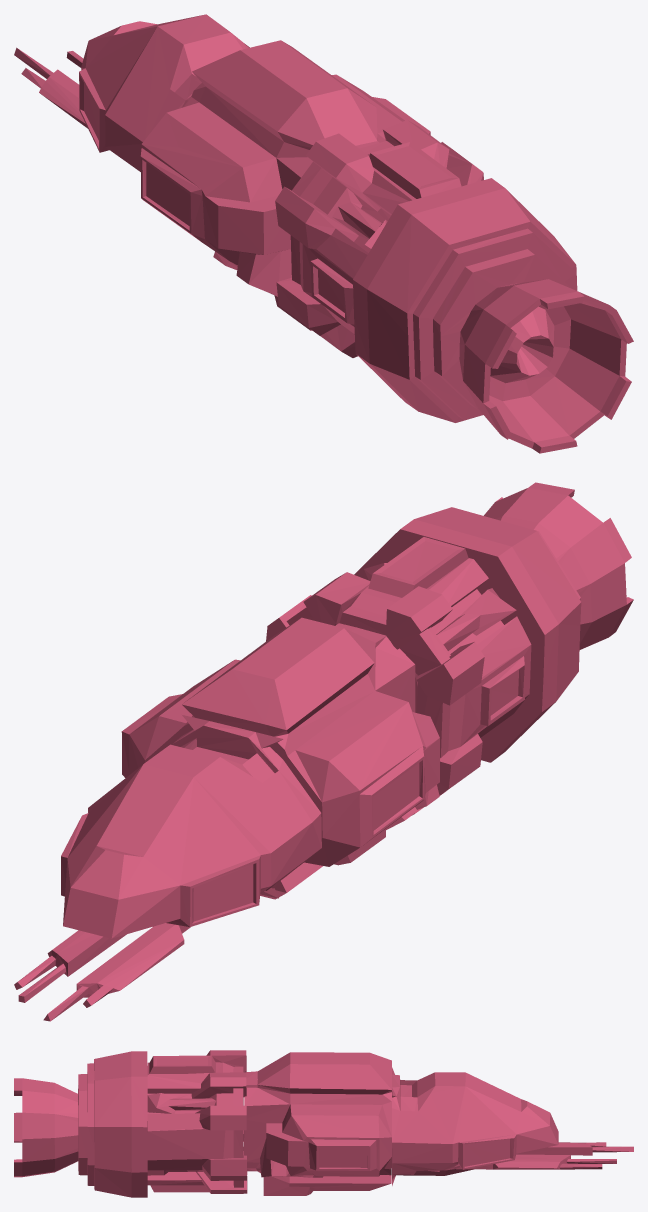
File: rocinante.fbx
3 views of the same model, one above another, from view 1: azimuth 30°, elevation 25°; view 2: azimuth 150°, elevation 25°; view 3: azimuth 270°, elevation 25° (orthographic). The views are drawn at different scales.
Parts seen in each view (by area): view 1: Rocinante Front 11.4in 02; view 2: Rocinante Front 11.4in 02; view 3: Rocinante Front 11.4in 02.
Boxes of the visible parts, bbox=[...] form: Rocinante Front 11.4in 02: bbox=[14, 14, 633, 453]; Rocinante Front 11.4in 02: bbox=[14, 482, 633, 1021]; Rocinante Front 11.4in 02: bbox=[14, 1050, 633, 1197].
Size of the model in its own units: 7987 by 6727 by 29557.
